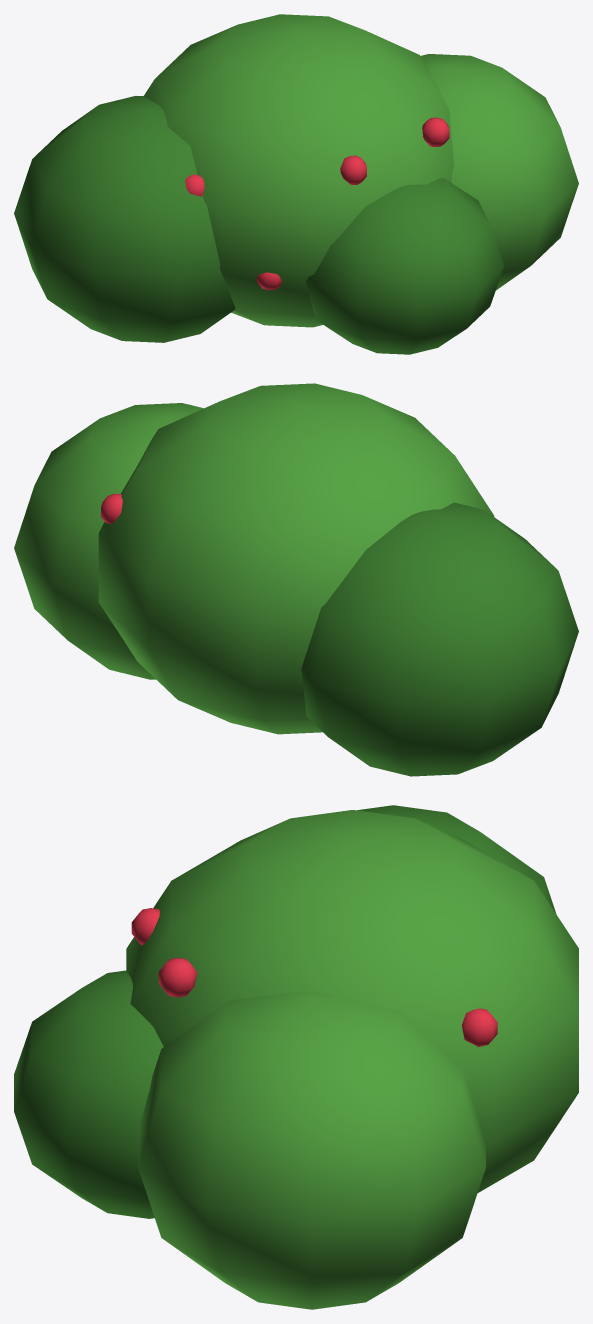
The model's file is Bush.glb.
3 renders of one model, top to bottom at view 1: azimuth 30°, elevation 25°; view 2: azimuth 150°, elevation 25°; view 3: azimuth 270°, elevation 25°, orthographic. The views are drawn at different scales.
Parts seen in each view (by area): view 1: Blobs, BlobsDark, Berries; view 2: Blobs, BlobsDark, Berries; view 3: Blobs, BlobsDark, Berries.
Boxes of the visible parts, x1,y1,x2,y2 form: Blobs: [144, 14, 578, 327]; BlobsDark: [14, 96, 504, 354]; Berries: [185, 117, 449, 290]; Blobs: [14, 383, 494, 734]; BlobsDark: [301, 502, 578, 776]; Berries: [101, 494, 122, 523]; Blobs: [126, 810, 578, 1309]; BlobsDark: [14, 805, 556, 1218]; Berries: [131, 908, 497, 1046].
Bounding box in the file's own units: 1.9 × 1 × 1.39.
